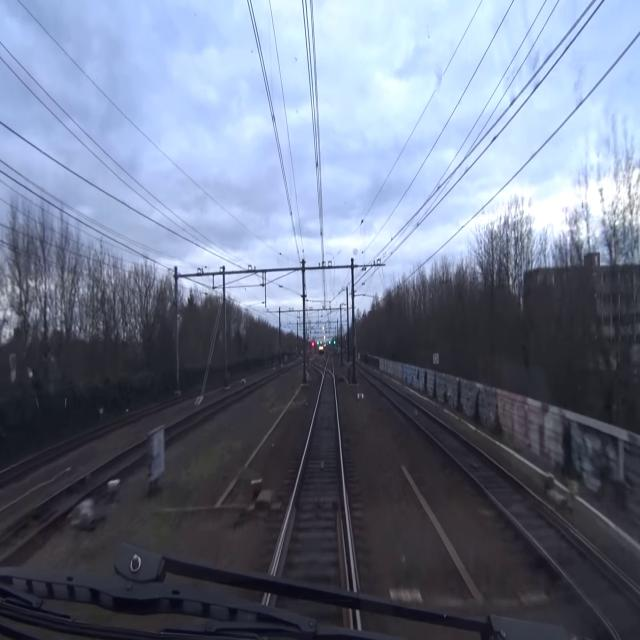rail-track: (372, 378, 640, 639), (0, 443, 147, 551), (280, 373, 343, 582)
